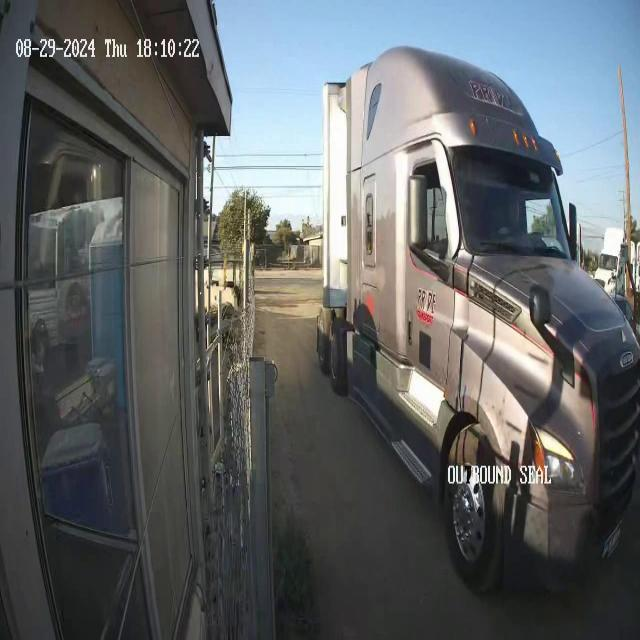TRUCK_IN: (315, 44, 639, 599)
